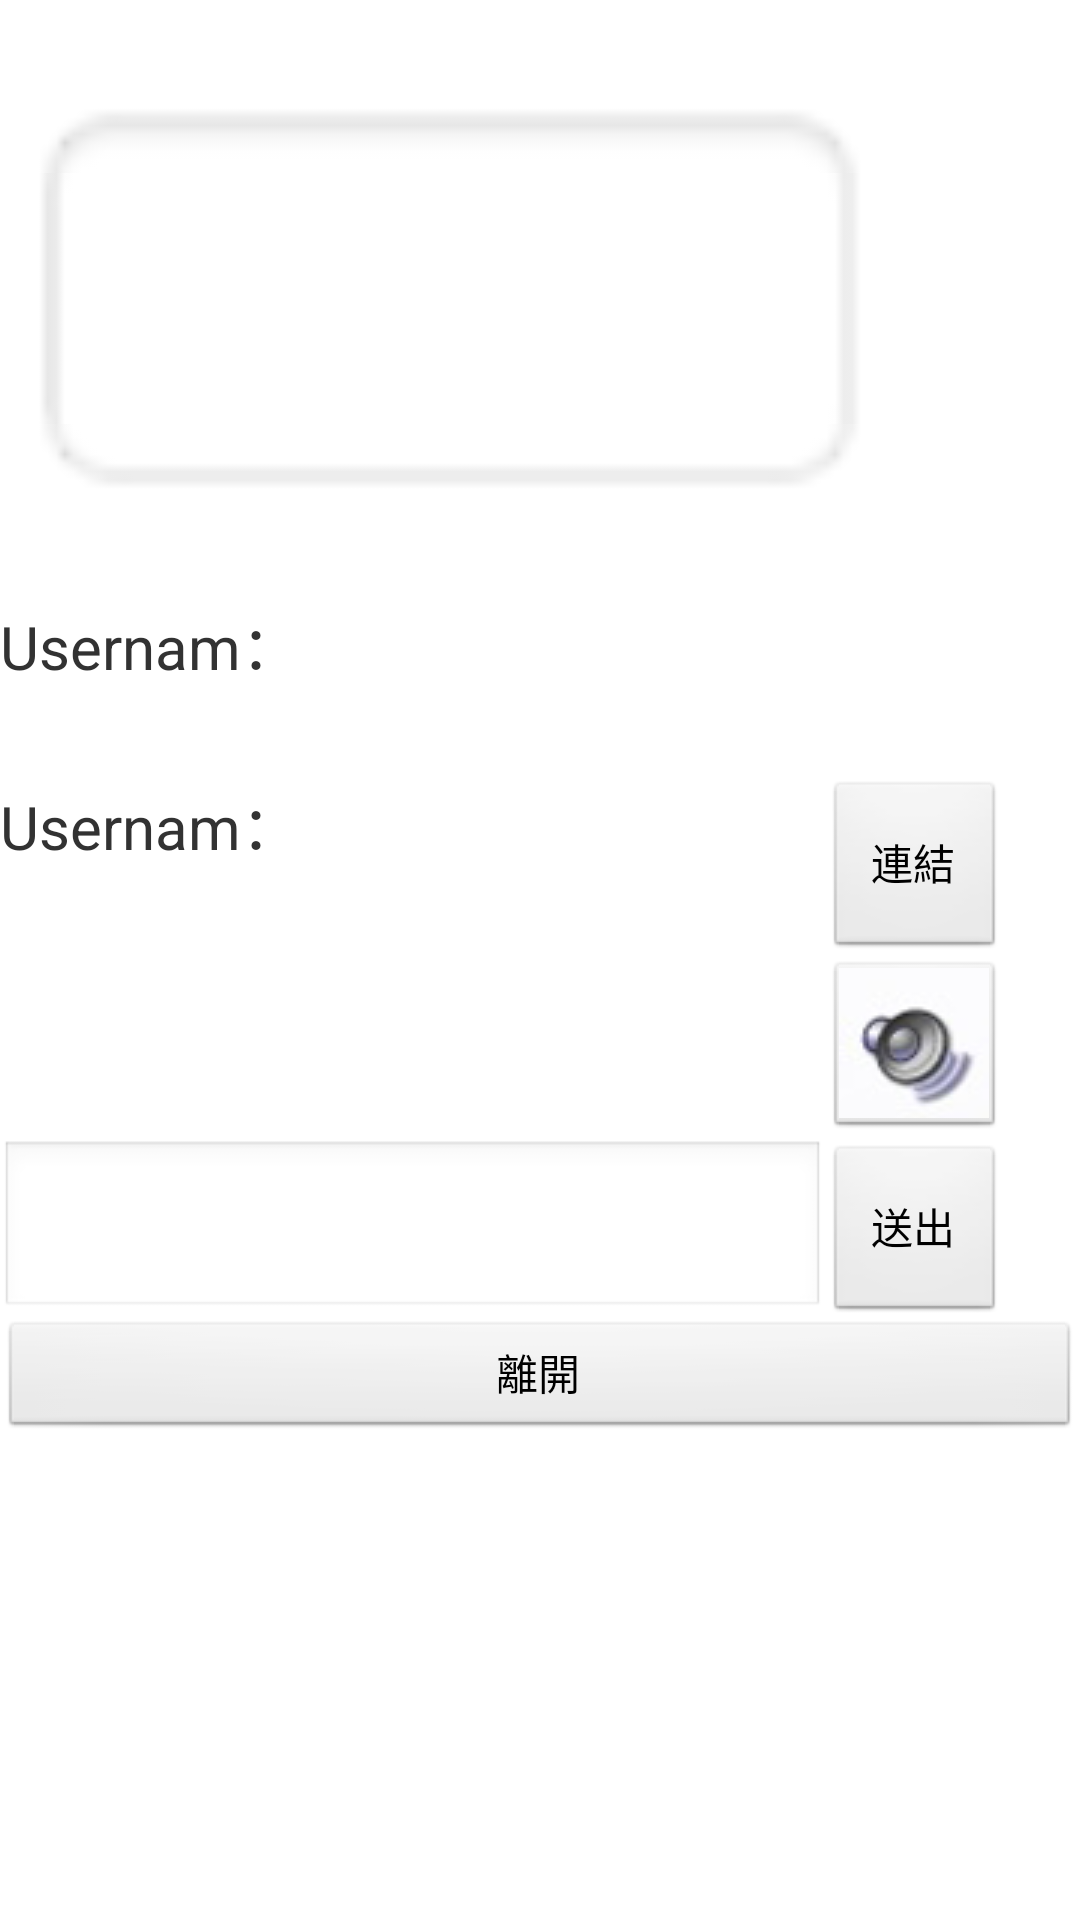

Named icons in this screenshot (1080w x 1920h) and their bounding boxes, (x1, y1, x2, y2):
horn: (834, 967, 995, 1126)
